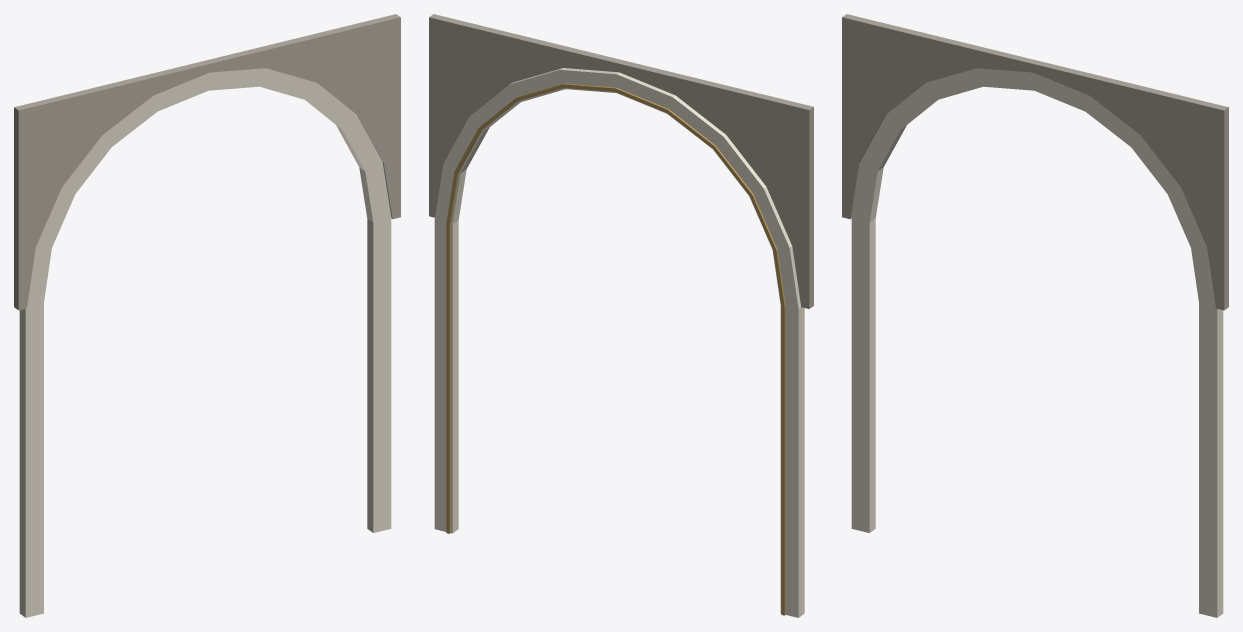
File: VIC_A03_ARCH_10_Roblox.fbx
3 views of the same model, side by side, from view 1: azimuth 30°, elevation 25°; view 2: azimuth 150°, elevation 25°; view 3: azimuth 330°, elevation 25° (orthographic).
Parts seen in each view (by area): view 1: VIC_A03_ARCH_10__Ivory, VIC_A03_ARCH_10__Stone; view 2: VIC_A03_ARCH_10__Stone, VIC_A03_ARCH_10__Ivory, VIC_A03_ARCH_10__Brass; view 3: VIC_A03_ARCH_10__Ivory, VIC_A03_ARCH_10__Stone.
Part boxes in pixels (x1,y1,x2,y2): VIC_A03_ARCH_10__Ivory: (19,68,391,617); VIC_A03_ARCH_10__Stone: (14,14,400,310); VIC_A03_ARCH_10__Stone: (429,14,813,308); VIC_A03_ARCH_10__Ivory: (434,68,804,617); VIC_A03_ARCH_10__Brass: (446,83,785,615); VIC_A03_ARCH_10__Ivory: (851,68,1223,617); VIC_A03_ARCH_10__Stone: (842,14,1228,310).
Bounding box in the file's own units: 11.6 × 14.8 × 0.44.
